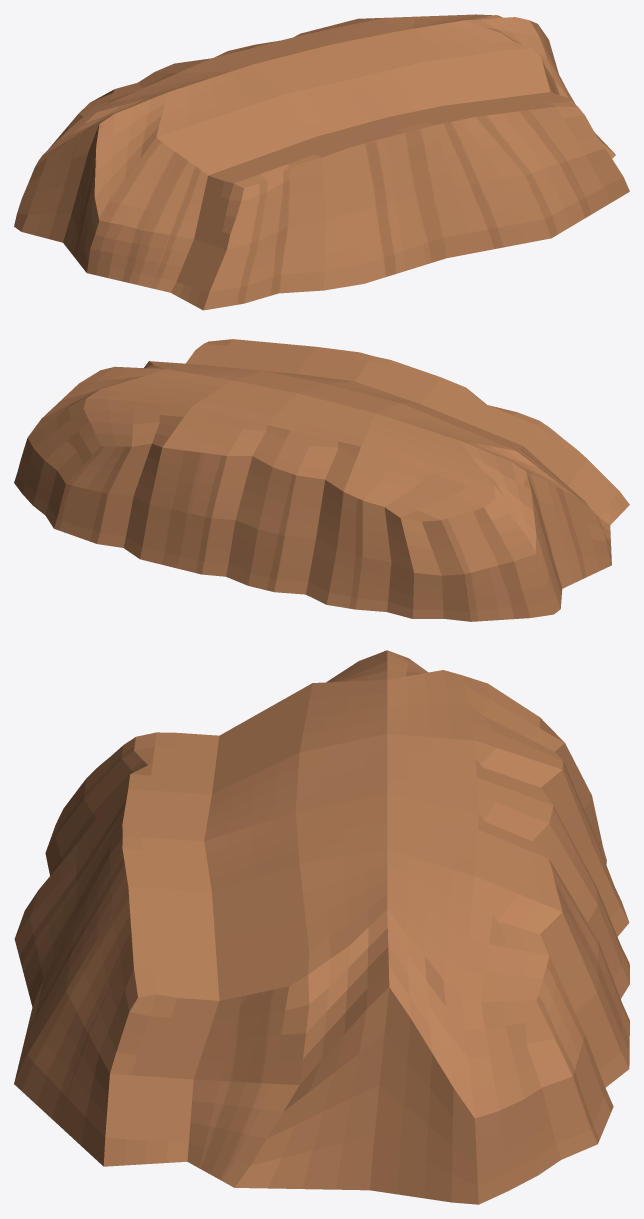
Rendered from uluru.fbx.
3 renders of one model, top to bottom at view 1: azimuth 30°, elevation 25°; view 2: azimuth 150°, elevation 25°; view 3: azimuth 270°, elevation 25°, orthographic. The views are drawn at different scales.
Parts seen in each view (by area): view 1: uluru; view 2: uluru; view 3: uluru.
Boxes of the visible parts, x1,y1,x2,y2 form: uluru: (14, 14, 629, 310); uluru: (14, 339, 629, 621); uluru: (14, 650, 629, 1204).
Bounding box in the file's own units: 1562 × 362 × 960.
1 material, 1 textured.
